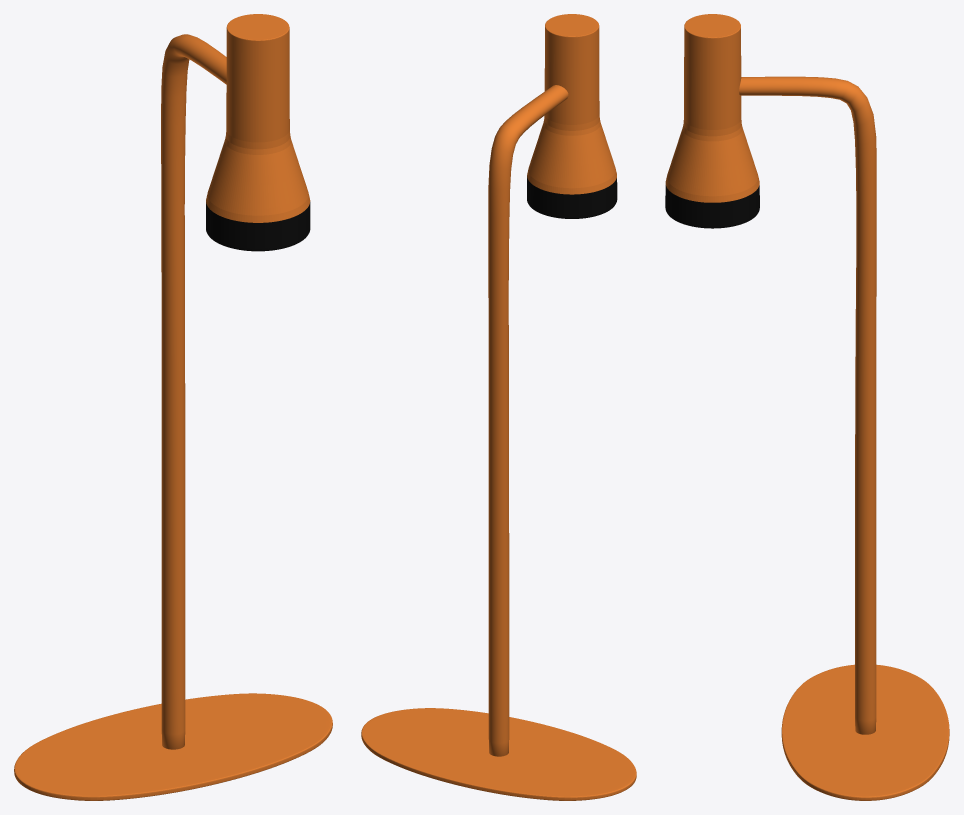
The model's file is LamparaDoblada.fbx.
3 views of the same model, side by side, from view 1: azimuth 30°, elevation 25°; view 2: azimuth 150°, elevation 25°; view 3: azimuth 270°, elevation 25° (orthographic). The views are drawn at different scales.
Parts seen in each view (by area): view 1: LamparaDoblada; view 2: LamparaDoblada; view 3: LamparaDoblada.
Boxes of the visible parts, x1,y1,x2,y2 form: LamparaDoblada: [14, 14, 332, 800]; LamparaDoblada: [361, 14, 636, 800]; LamparaDoblada: [665, 14, 949, 800].
Bounding box in the file's own units: 169 × 420 × 152.
